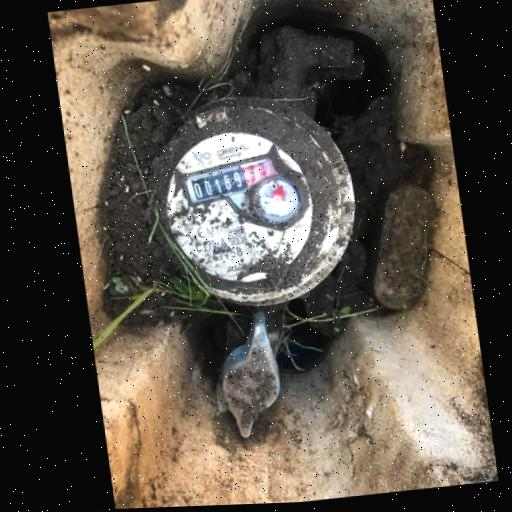0: (190, 177, 207, 201), (201, 175, 216, 199)
1: (211, 174, 226, 196)
6: (250, 162, 268, 185)
7: (259, 160, 276, 179)
8: (219, 170, 235, 193)
9: (240, 165, 257, 189), (229, 168, 246, 191)
border_water_meter_number: (178, 151, 281, 208)
